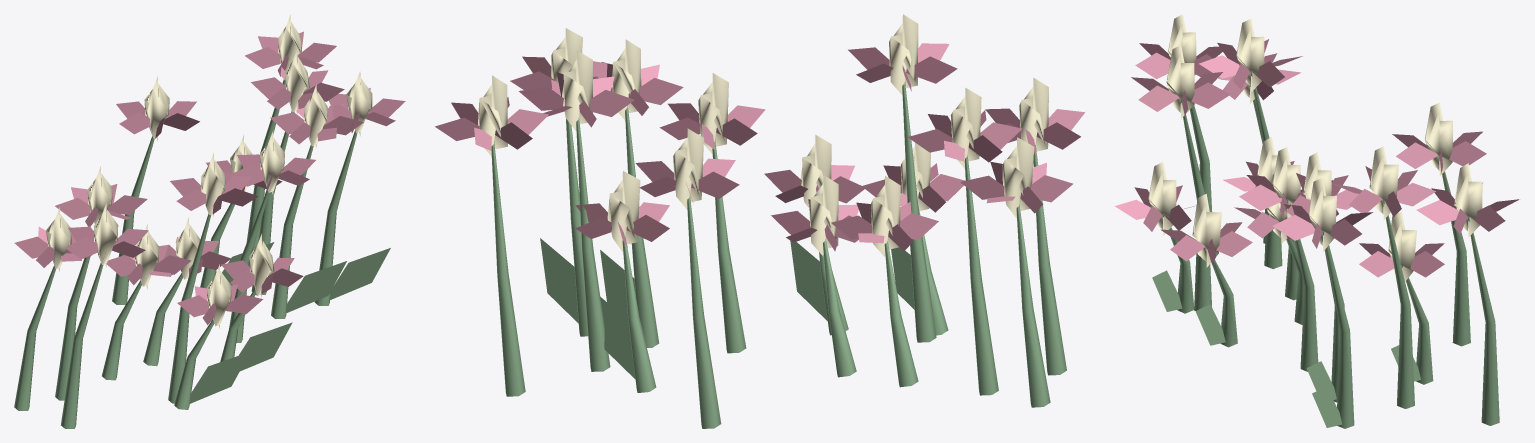
File: flower_pink.glb
3 renders of one model, left to right at view 1: azimuth 30°, elevation 25°; view 2: azimuth 150°, elevation 25°; view 3: azimuth 270°, elevation 25°, orthographic. The views are drawn at different scales.
Visible parts, largest first — view 1: flower_pink; view 2: flower_pink; view 3: flower_pink.
Part boxes in pixels (x1,y1,x2,y2): flower_pink: (14, 14, 405, 428); flower_pink: (435, 14, 1084, 428); flower_pink: (1115, 14, 1519, 428).
Bounding box in the file's own units: 1.44 × 0.8464 × 1.11.
